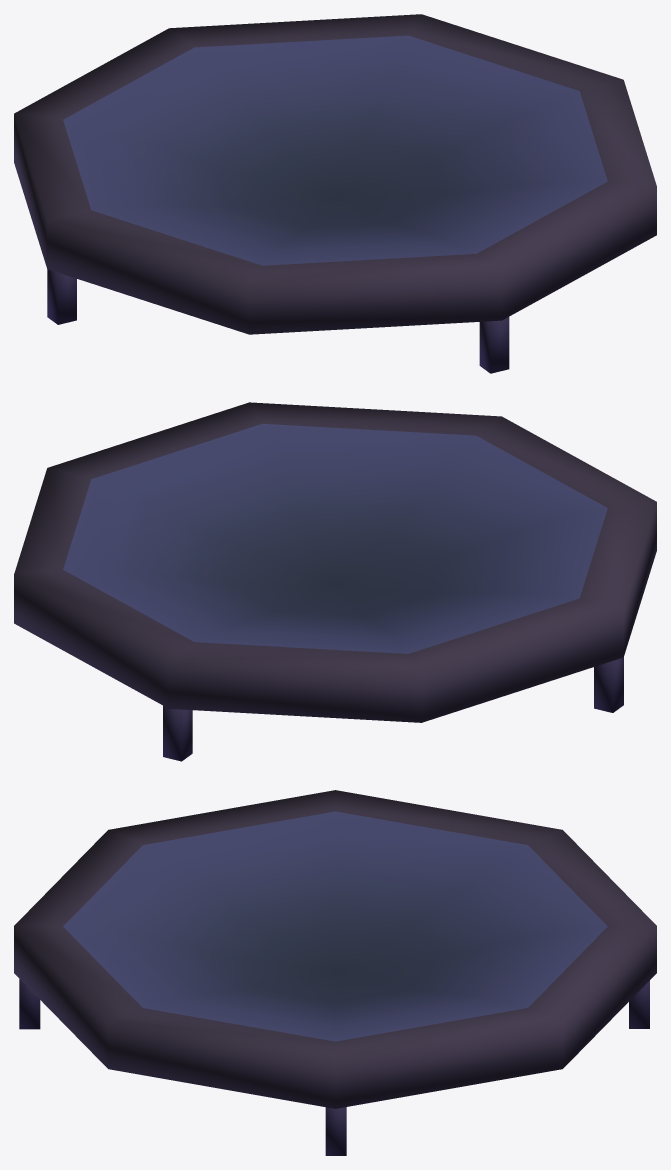
File: Trampoline.fbx
The picture shows the model from 3 angles, top to bottom: view 1: azimuth 30°, elevation 25°; view 2: azimuth 150°, elevation 25°; view 3: azimuth 270°, elevation 25°; orthographic projection. The views are drawn at different scales.
Visible parts, largest first — view 1: Cylinder; view 2: Cylinder; view 3: Cylinder.
Boxes of the visible parts, left/top/right/bottom form: Cylinder: left=14, top=14, right=656, bottom=373; Cylinder: left=14, top=402, right=656, bottom=761; Cylinder: left=14, top=790, right=656, bottom=1155.
Size of the model in its own units: 200 by 33.79 by 200.
